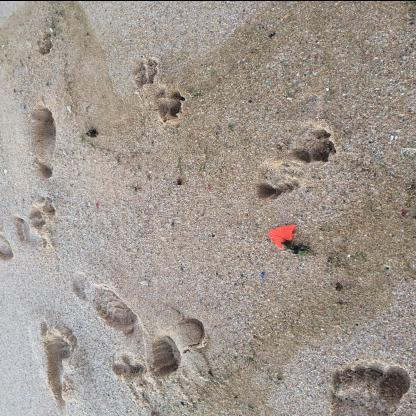plastik: (269, 224, 297, 250)
